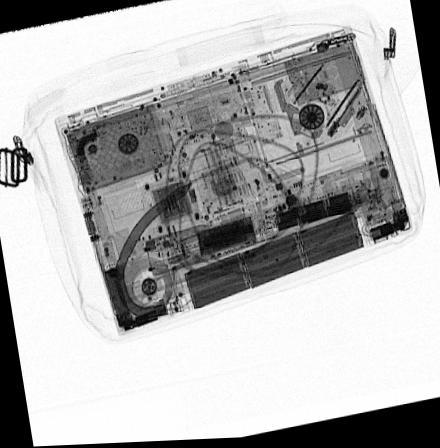Baton: (141, 178, 383, 278)
